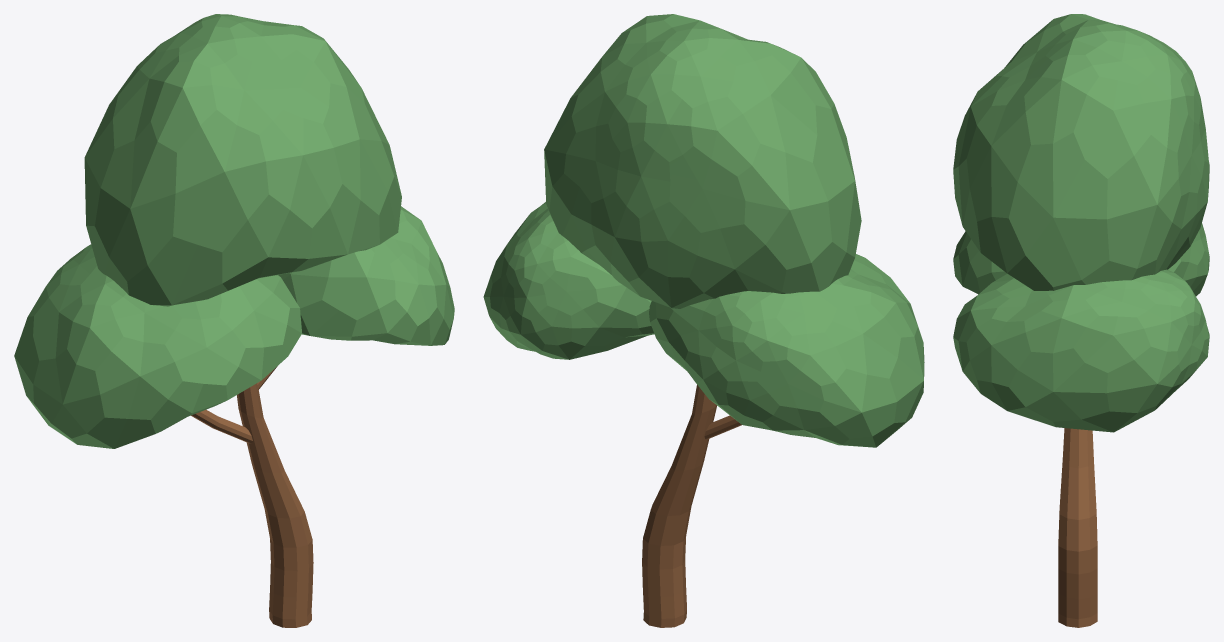
File: tree2.glb
The picture shows the model from 3 angles, left to right: view 1: azimuth 30°, elevation 25°; view 2: azimuth 150°, elevation 25°; view 3: azimuth 270°, elevation 25°; orthographic projection. The views are drawn at different scales.
Visible parts, largest first — view 1: Tree2; view 2: Tree2; view 3: Tree2.
Boxes of the visible parts, <box> form: Tree2: <box>14,14,454,627</box>; Tree2: <box>483,14,924,627</box>; Tree2: <box>953,14,1209,627</box>.
Bounding box in the file's own units: 3.73 × 5.57 × 2.26.
